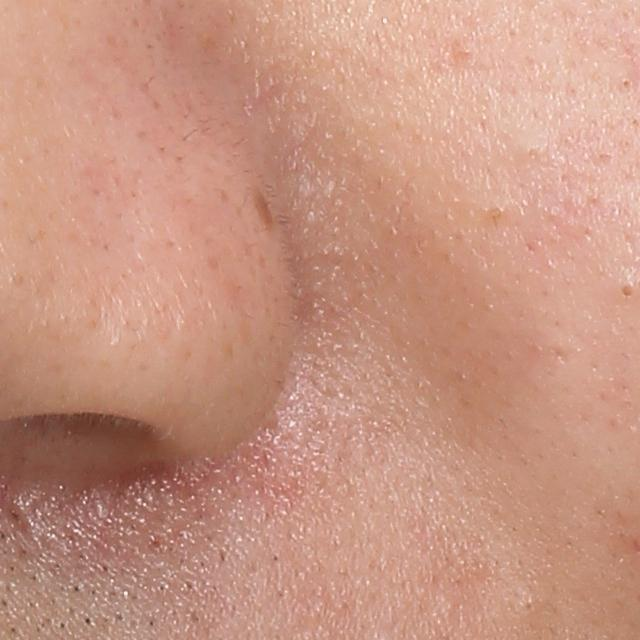comedo: (513, 593, 545, 618), (619, 279, 638, 301), (620, 76, 633, 90)
melasma: (250, 183, 278, 231)
